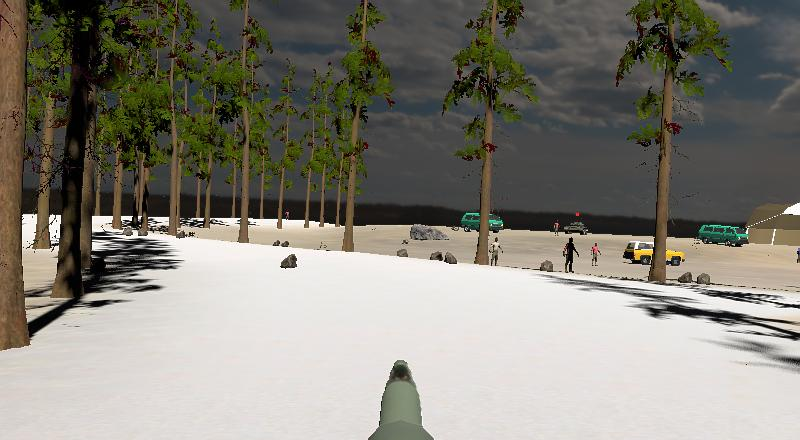Human: (588, 240, 603, 268)
Tank: (563, 220, 592, 236)
car: (622, 238, 686, 267), (697, 223, 750, 248), (460, 209, 505, 234)
